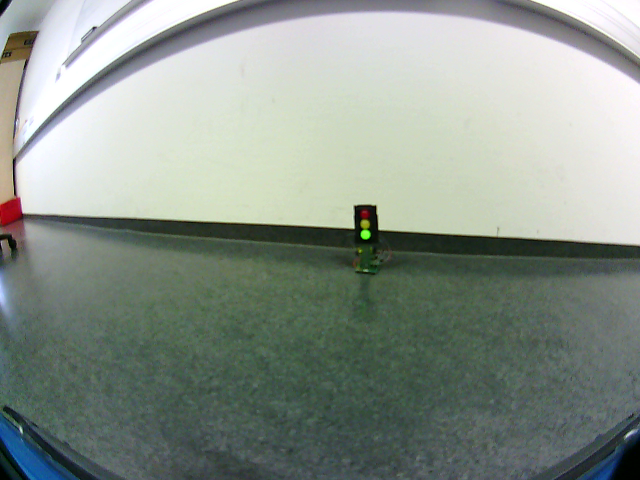green trafficlight: (356, 206, 375, 244)
